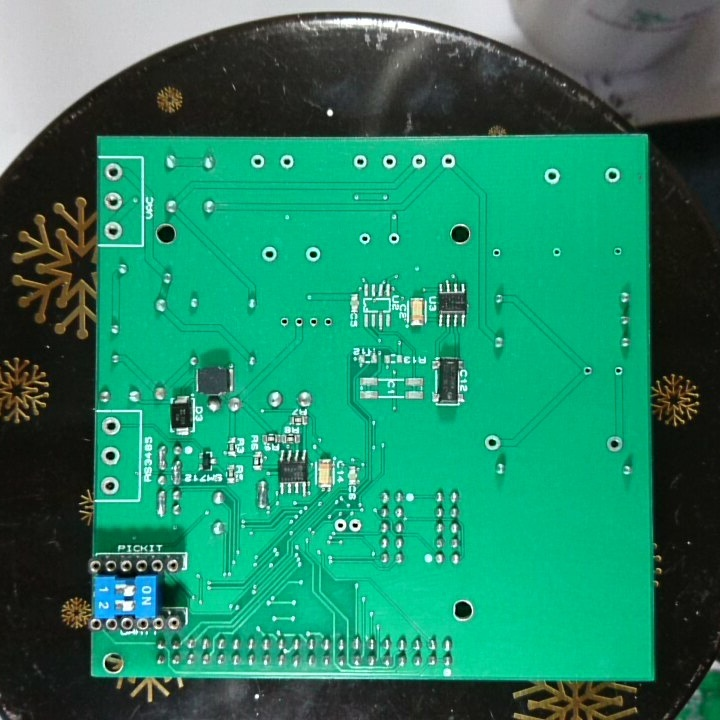F: (97, 474, 122, 498), (100, 415, 125, 439), (102, 218, 125, 244), (541, 162, 564, 188), (348, 151, 373, 174), (99, 444, 123, 467), (602, 163, 624, 188), (102, 190, 125, 213), (409, 150, 431, 173), (102, 160, 123, 183), (379, 152, 399, 174), (259, 243, 279, 265), (605, 432, 625, 453), (303, 244, 323, 265), (439, 150, 458, 172), (248, 152, 268, 172), (276, 152, 297, 171), (482, 433, 502, 452), (356, 229, 375, 249), (487, 243, 505, 262), (385, 229, 402, 249), (331, 516, 348, 535), (549, 243, 565, 263), (611, 241, 626, 260), (348, 516, 363, 535), (579, 361, 594, 380), (305, 313, 319, 331), (611, 364, 626, 380), (321, 314, 335, 330), (292, 314, 306, 330), (277, 314, 291, 329)
P: (255, 478, 271, 511), (170, 458, 185, 488), (155, 487, 168, 518), (156, 442, 168, 472)
